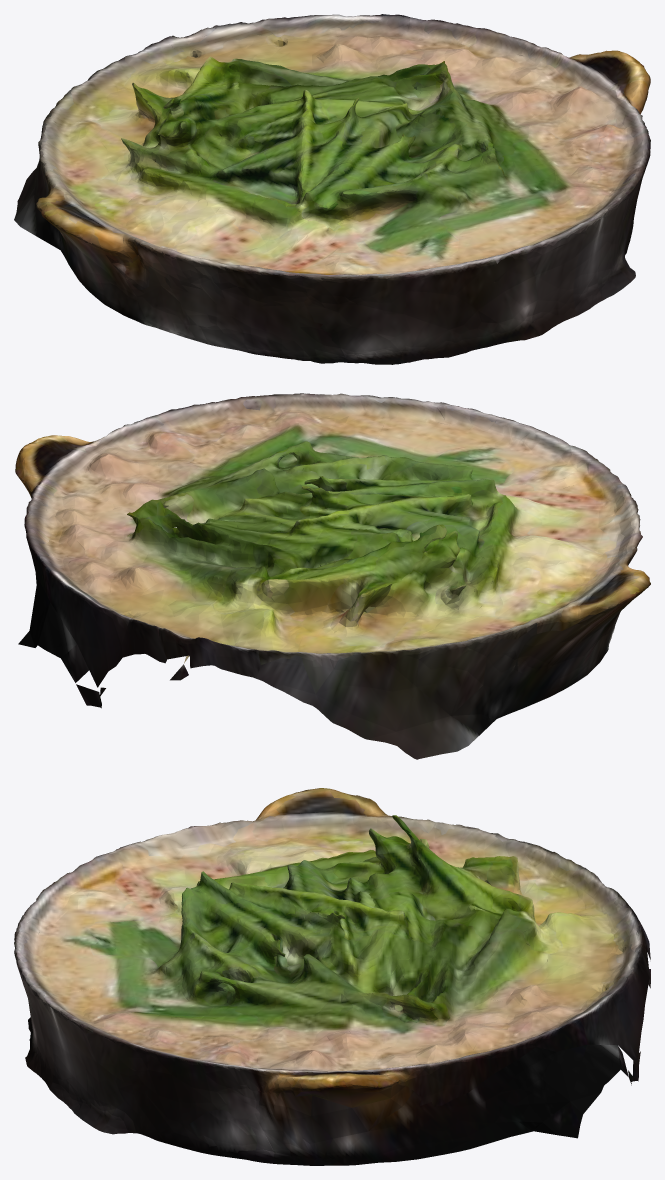
The model's file is shorva.glb.
3 renders of one model, top to bottom at view 1: azimuth 30°, elevation 25°; view 2: azimuth 150°, elevation 25°; view 3: azimuth 270°, elevation 25°, orthographic. The views are drawn at different scales.
Parts seen in each view (by area): view 1: mesh; view 2: mesh; view 3: mesh.
Boxes of the visible parts, x1,y1,x2,y2 form: mesh: [14, 14, 650, 364]; mesh: [15, 393, 650, 759]; mesh: [14, 788, 650, 1165].
Bounding box in the file's own units: 0.2 × 0.0481 × 0.1784.
1 material, 1 textured.
